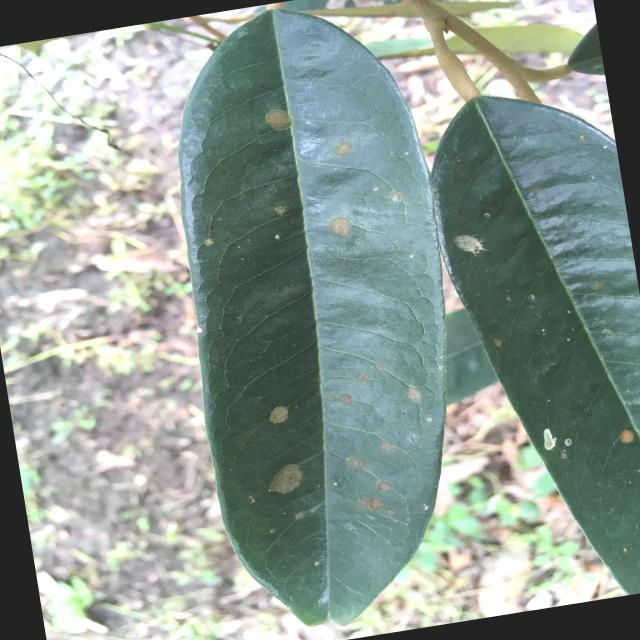Algal Leaf Spot: (135, 0, 510, 639)
